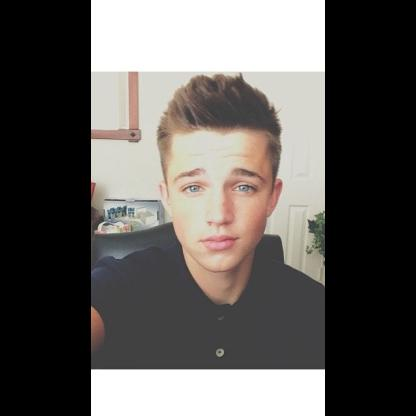Male: (160, 128, 282, 272)
